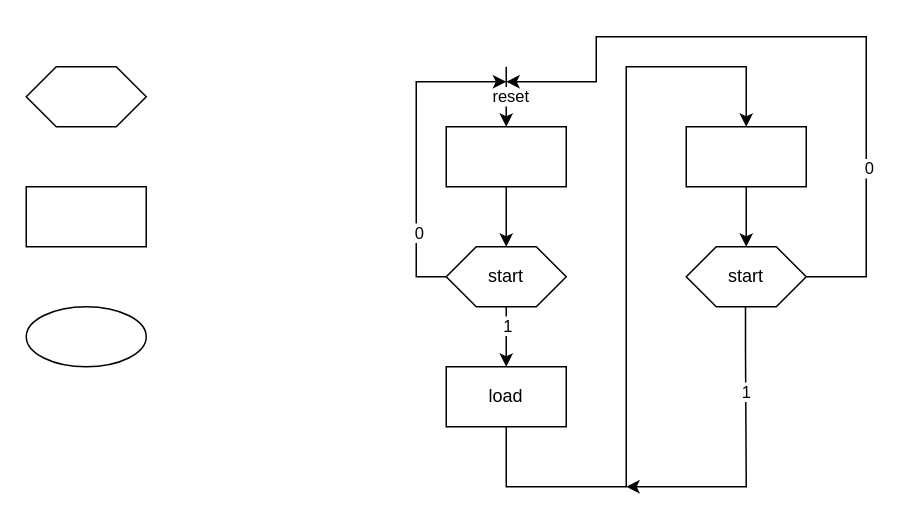
The diagram is 905 pixels wide and 525 high, and some of its shapes have lost their labels. Here are the shapes that lost their labels. From the top down, the centre of each, then its label:
At point 505,156: "Ready".
At point 745,156: "done".
